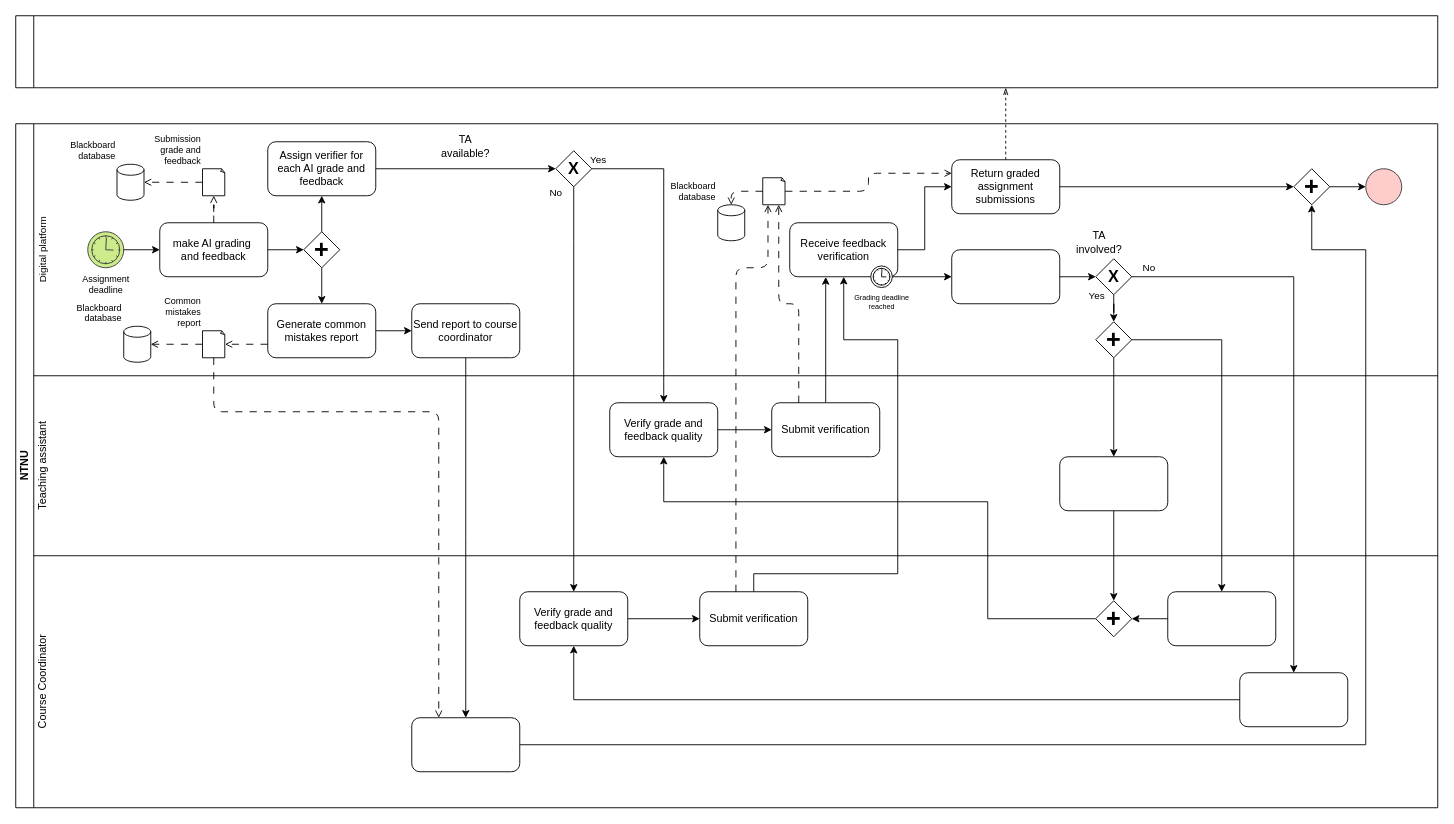
This 1454x824 diagram has some shape labels left out. The shapes that lost their labels are listed below. From the top down, each one's centre as x and y in pixels, then its label:
At point 726,51: "Student".
At point 773,191: "Verified submission grade and feedback".
At point 1383,186: "Grading finished".
At point 1005,276: "Notify of delayed grading".
At point 1113,483: "Receive warning".
At point 1221,618: "Provide new deadline".
At point 1293,699: "Explain delay".
At point 465,744: "Review and adjust course based on report".
